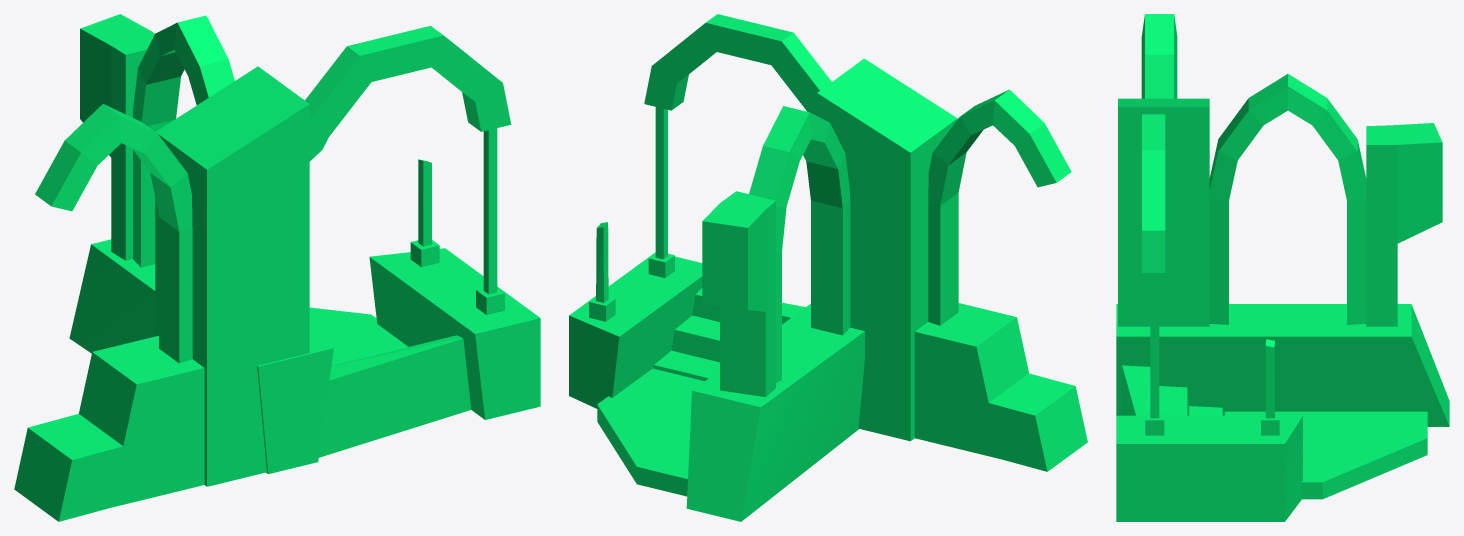
The model's file is Ruins1_Collision.FBX.
3 renders of one model, left to right at view 1: azimuth 30°, elevation 25°; view 2: azimuth 150°, elevation 25°; view 3: azimuth 270°, elevation 25°, orthographic. The views are drawn at different scales.
Visible parts, largest first — view 1: Ruins1_Collision; view 2: Ruins1_Collision; view 3: Ruins1_Collision.
Part boxes in pixels (x1,y1,x2,y2): Ruins1_Collision: [14, 14, 540, 521]; Ruins1_Collision: [569, 14, 1087, 521]; Ruins1_Collision: [1116, 14, 1449, 521].
Bounding box in the file's own units: 14.87 × 11.35 × 10.17.
